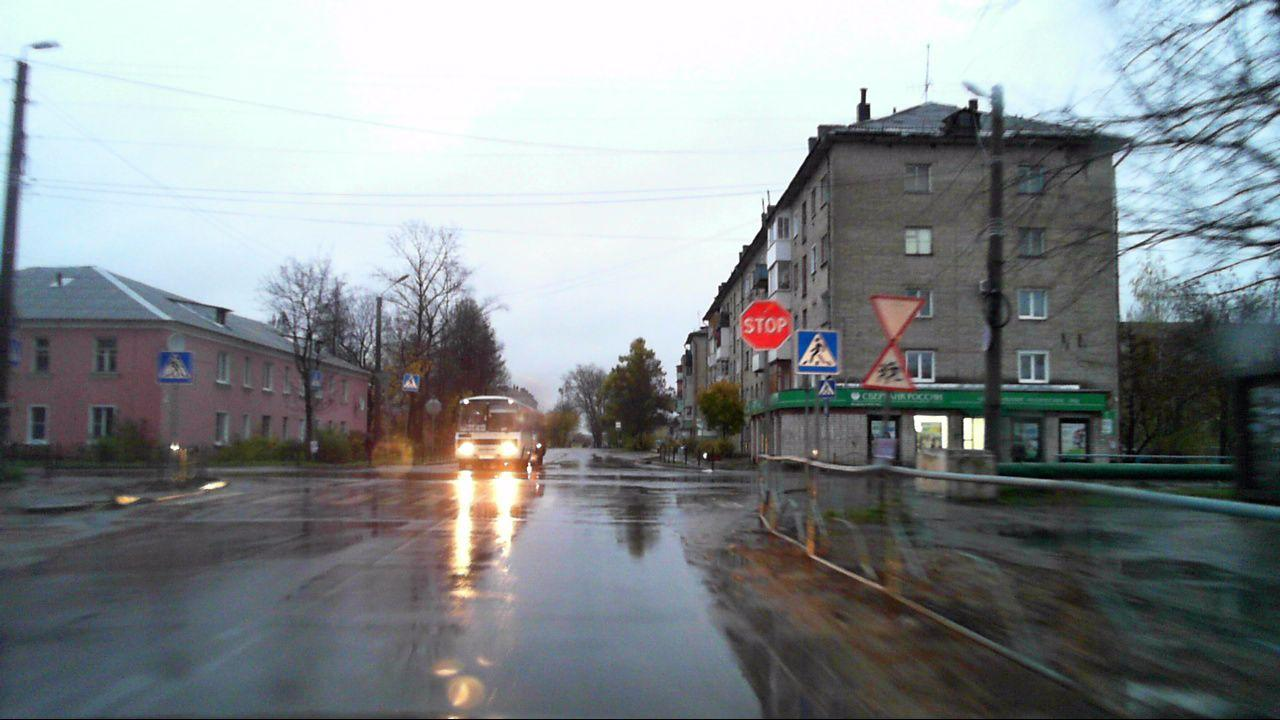1_23: (864, 341, 916, 391)
2_4: (869, 291, 925, 341)
2_5: (739, 299, 793, 351)
5_19_1: (796, 328, 841, 374), (818, 379, 836, 397), (311, 372, 322, 386)
5_19_2: (156, 353, 191, 382), (400, 373, 422, 392)
